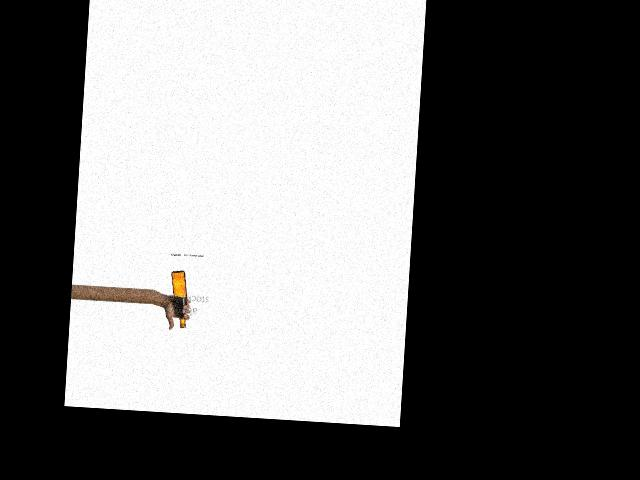beer: (167, 270, 189, 327)
